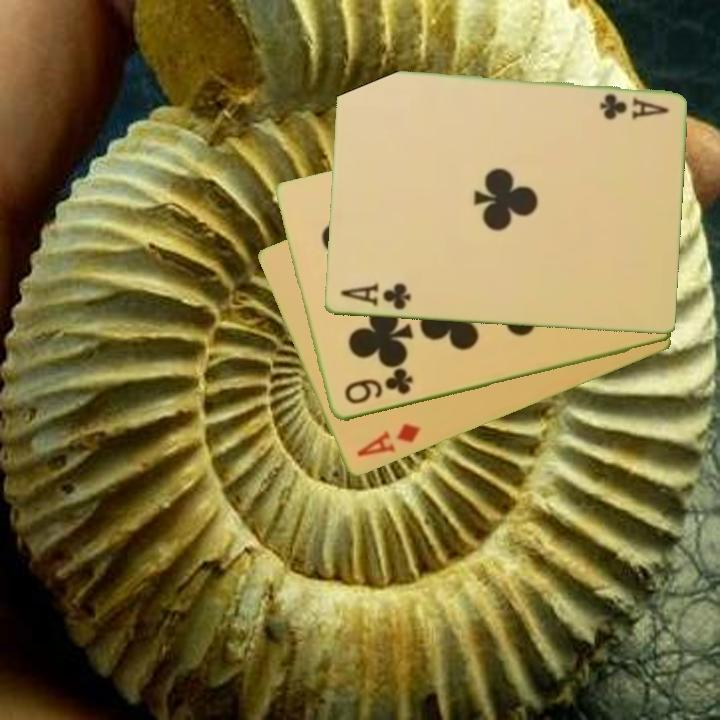9c: (340, 368, 416, 408)
Ac: (336, 280, 413, 314), (595, 90, 671, 123)
Ad: (353, 420, 423, 460)
